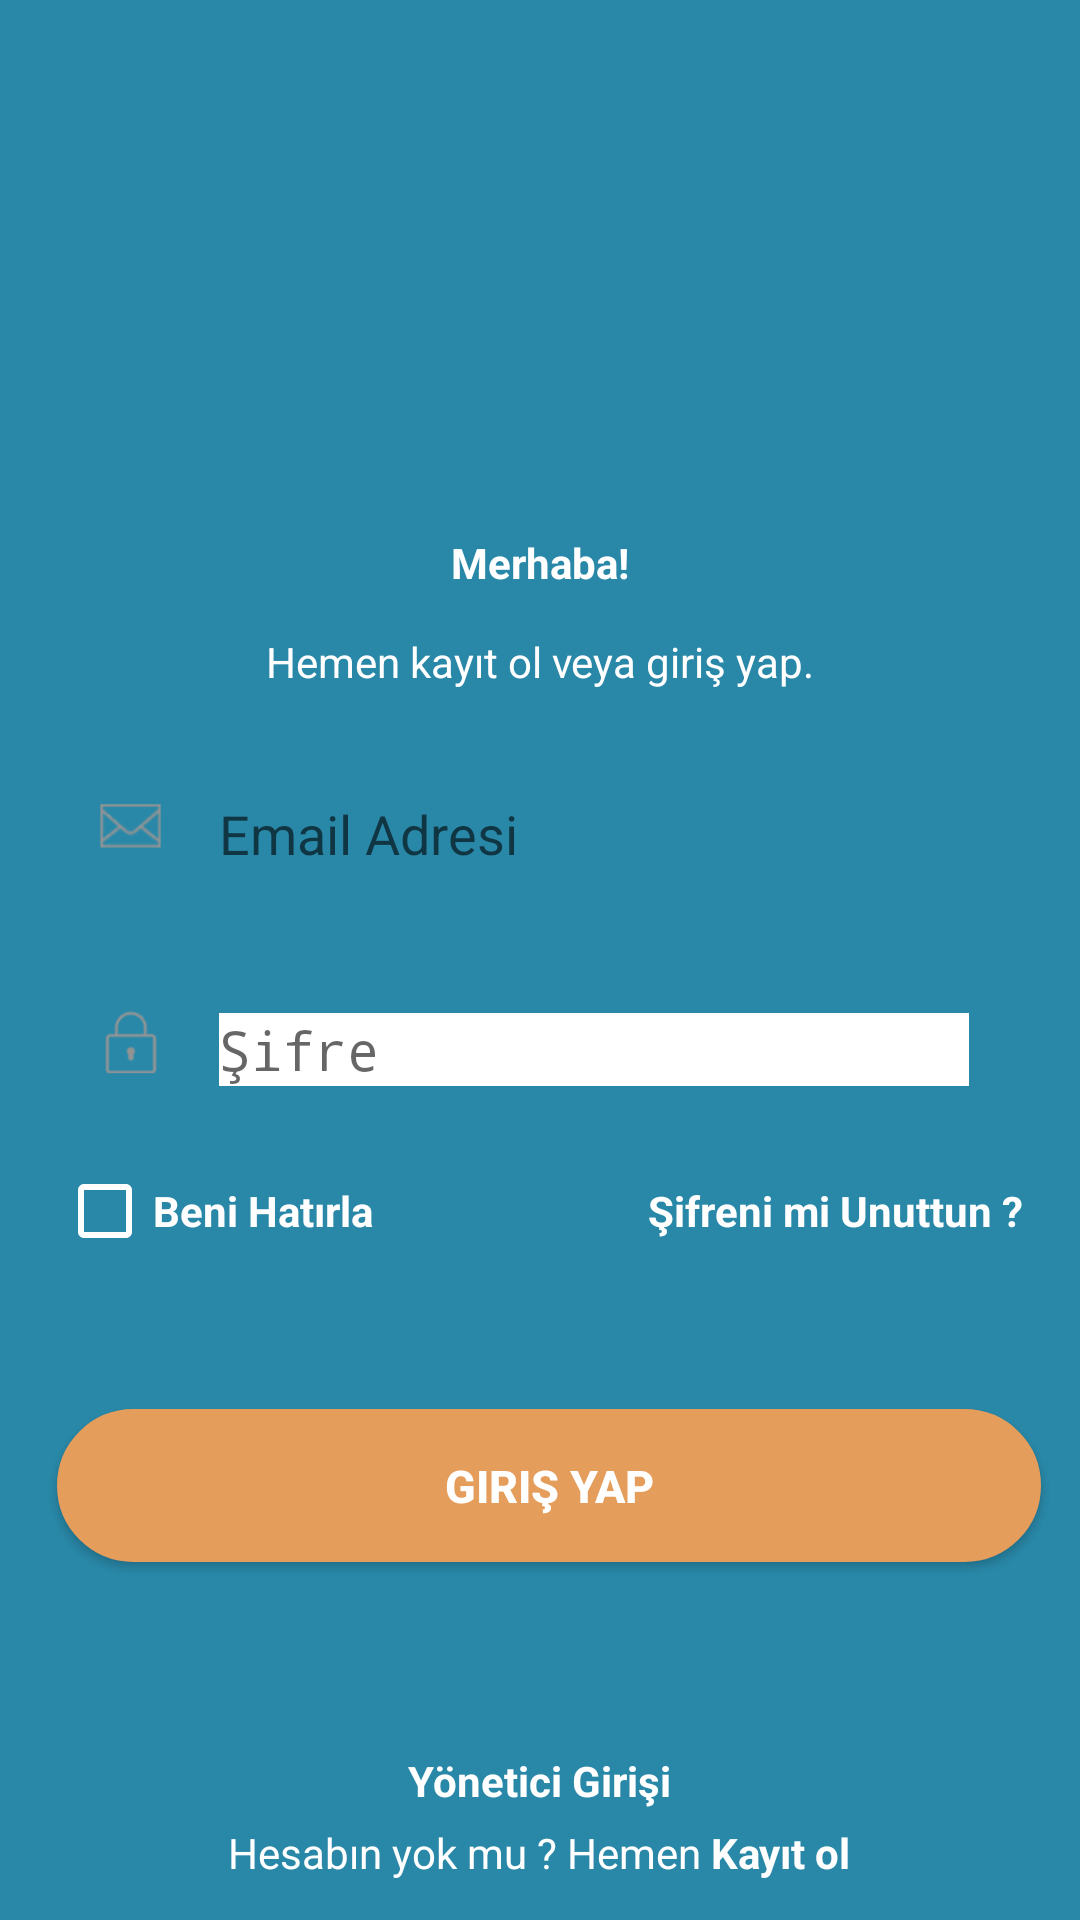

Point at icon controls on the screen. Image size 1080 × 1920, points as point (x, y).
iconepost: point (130, 826)
iconlock: point (131, 1042)
